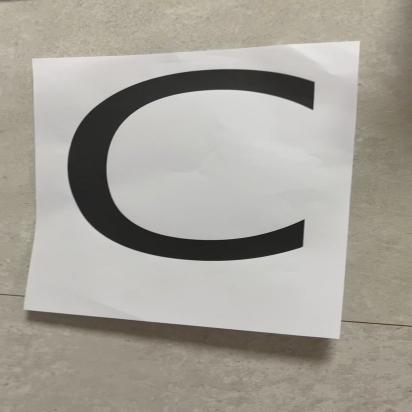seat: (38, 54, 337, 316)
